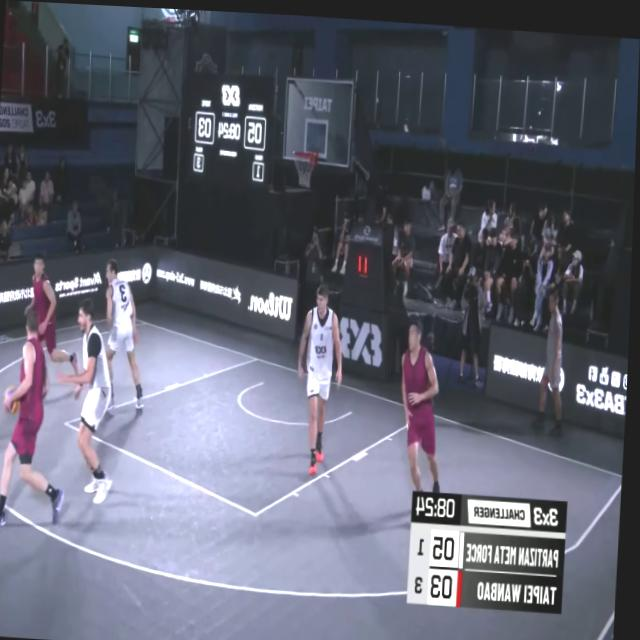ball: (4, 382, 24, 414)
hoop: (291, 141, 319, 190)
player: (0, 301, 81, 533), (57, 296, 128, 505), (296, 275, 349, 474), (399, 309, 451, 507), (19, 248, 87, 379), (102, 254, 154, 419)
